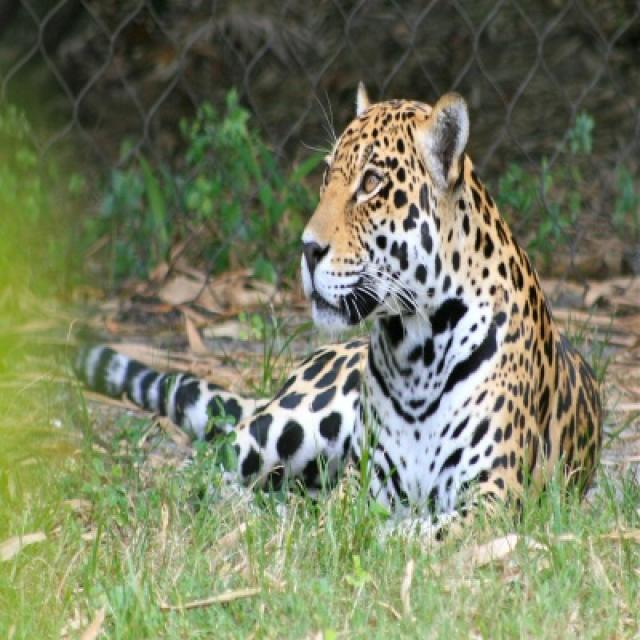Jaguar: (75, 93, 603, 522)
